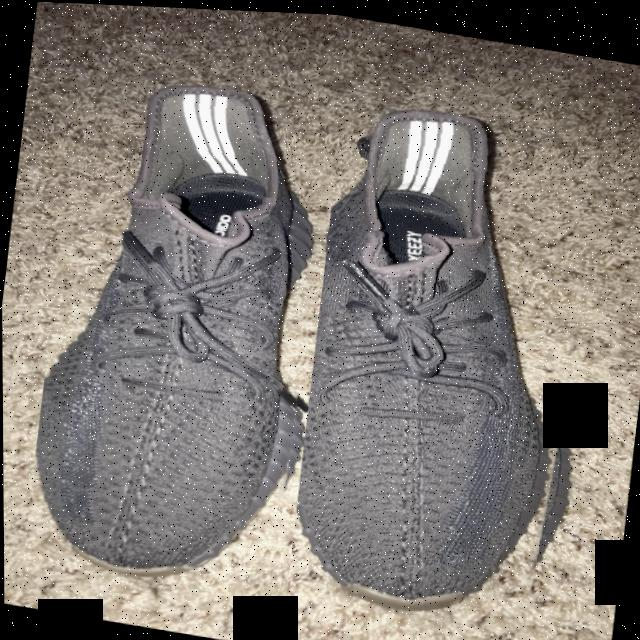shoe: (282, 90, 617, 640), (19, 57, 341, 602)
